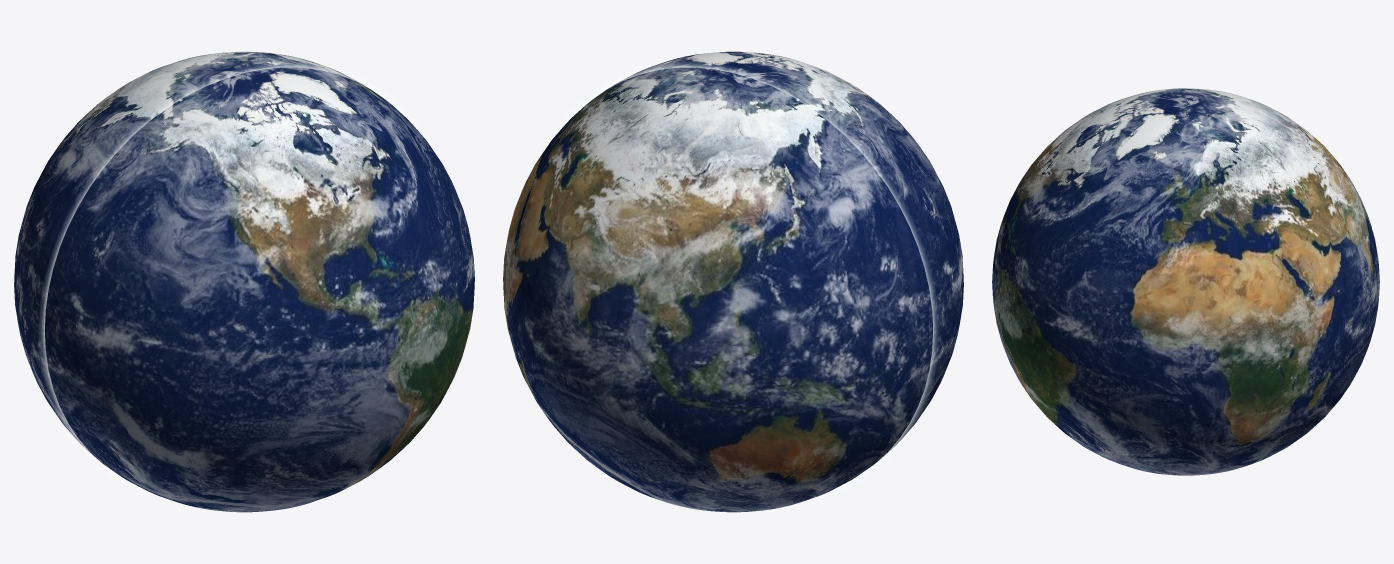
Rendered from earth.glb.
The picture shows the model from 3 angles, left to right: view 1: azimuth 30°, elevation 25°; view 2: azimuth 150°, elevation 25°; view 3: azimuth 270°, elevation 25°; orthographic projection. The views are drawn at different scales.
Parts seen in each view (by area): view 1: Earth, AtmosphereLimb; view 2: Earth, AtmosphereLimb; view 3: Earth.
Boxes of the visible parts, <box> form: Earth: <box>14,51,474,512</box>; AtmosphereLimb: <box>41,63,421,495</box>; Earth: <box>503,51,963,512</box>; AtmosphereLimb: <box>556,63,936,495</box>; Earth: <box>992,88,1379,475</box>.
Size of the model in its own units: 2.08 by 2.08 by 2.
Materials: 2 (2 with a texture image).
